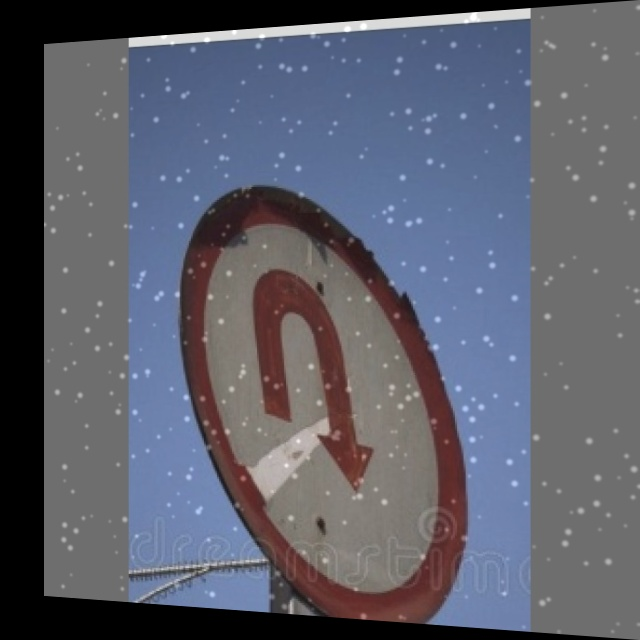U_Turn_Ahead: (185, 173, 474, 585)
